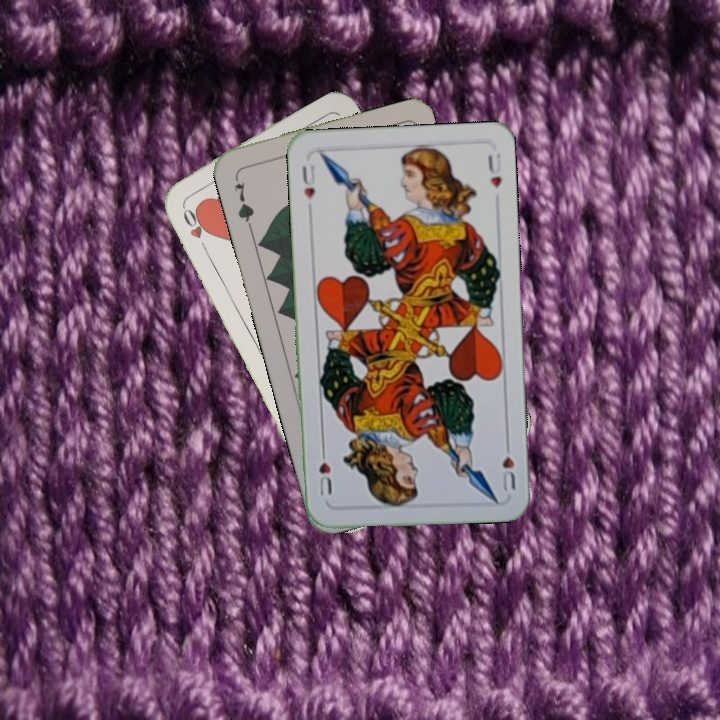G7: (230, 172, 257, 230)
HO: (178, 201, 211, 257)
HU: (498, 436, 518, 493), (297, 161, 318, 214)
